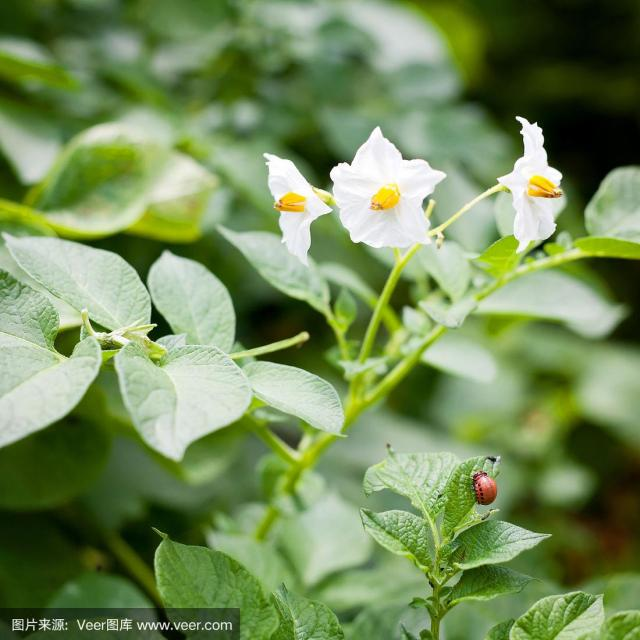ShuCaiHuaBanChong-Larva-: (472, 456, 504, 511)
